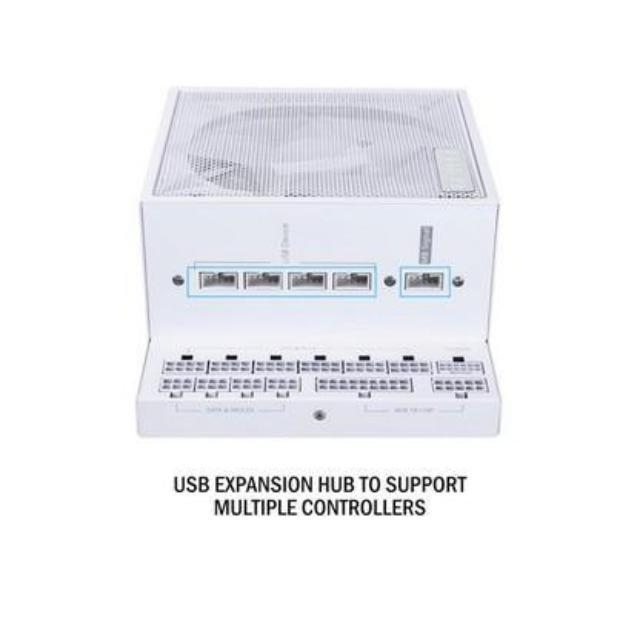PSU: (104, 82, 516, 450)
